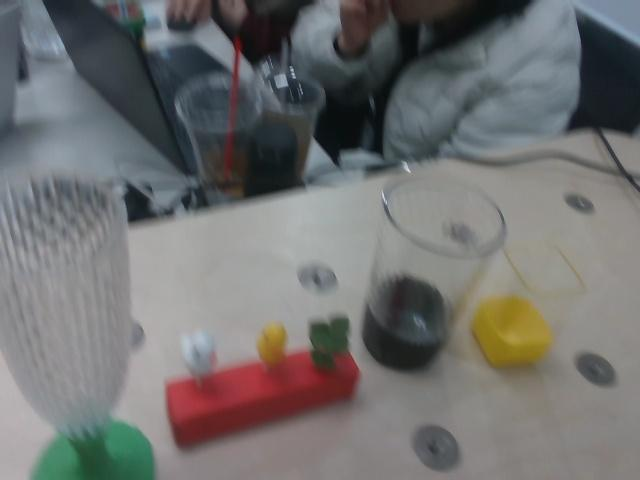black_cup: (363, 275, 452, 371)
green_cup: (31, 413, 155, 480)
leaf: (307, 314, 351, 373)
w_duck: (181, 332, 218, 376)
y_duck: (257, 323, 288, 365)
yellow_cup: (471, 293, 554, 368)
